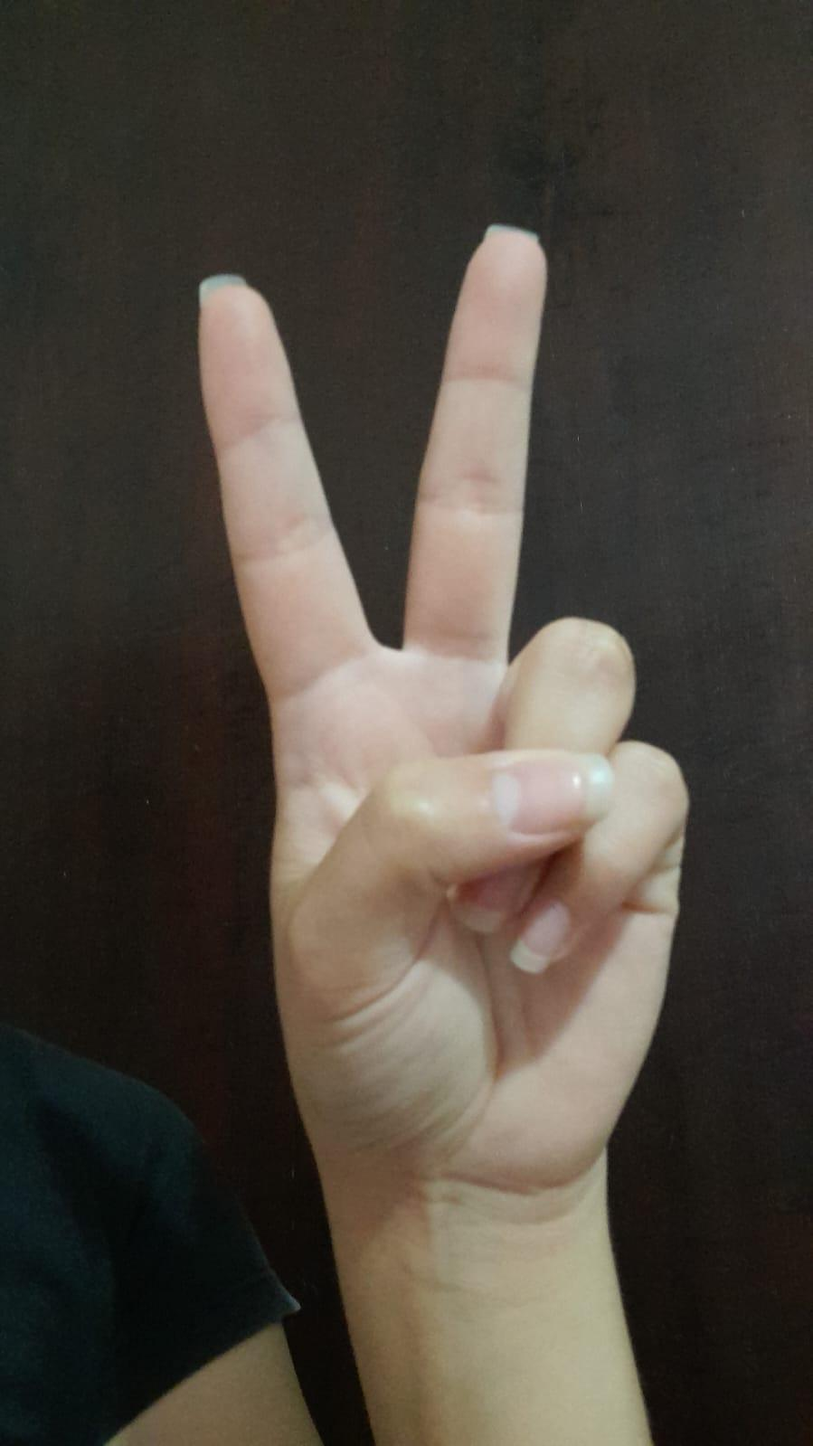V: (181, 199, 696, 1198)
